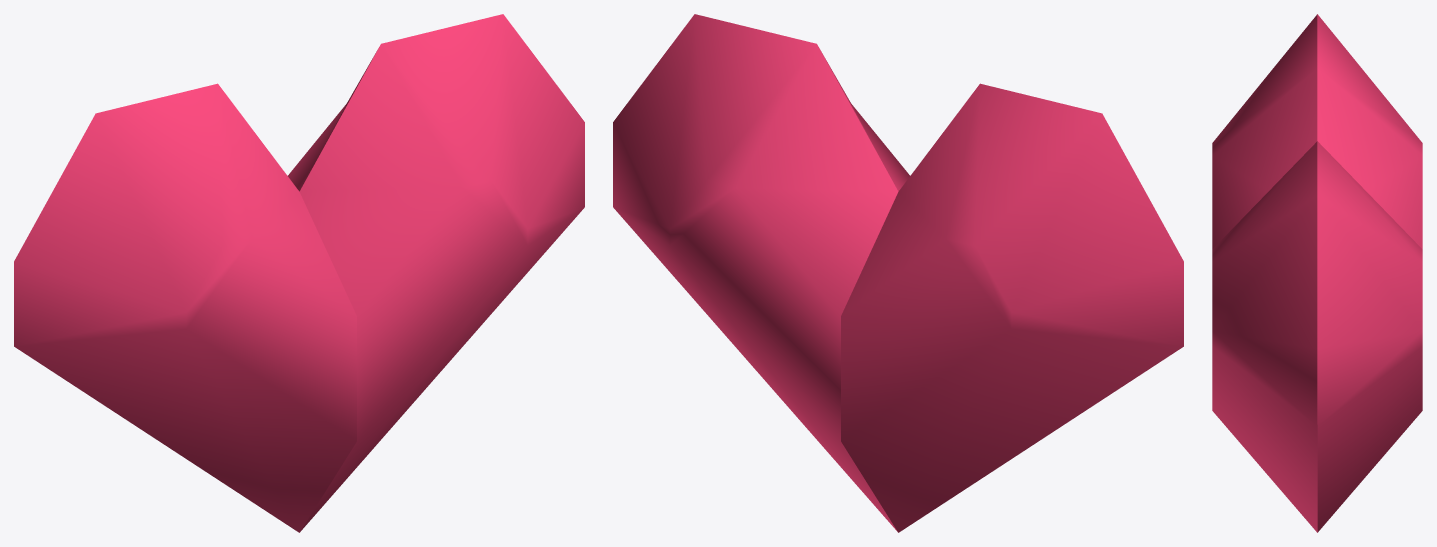
Rendered from hertBtn.glb.
3 renders of one model, left to right at view 1: azimuth 30°, elevation 25°; view 2: azimuth 150°, elevation 25°; view 3: azimuth 270°, elevation 25°, orthographic. The views are drawn at different scales.
Visible parts, largest first — view 1: hertBtn.001; view 2: hertBtn.001; view 3: hertBtn.001.
Part boxes in pixels (<box>): hertBtn.001: <box>14,14,584,532</box>; hertBtn.001: <box>613,14,1183,532</box>; hertBtn.001: <box>1212,14,1422,532</box>.
Size of the model in its own units: 25.35 by 19.91 by 8.85.
